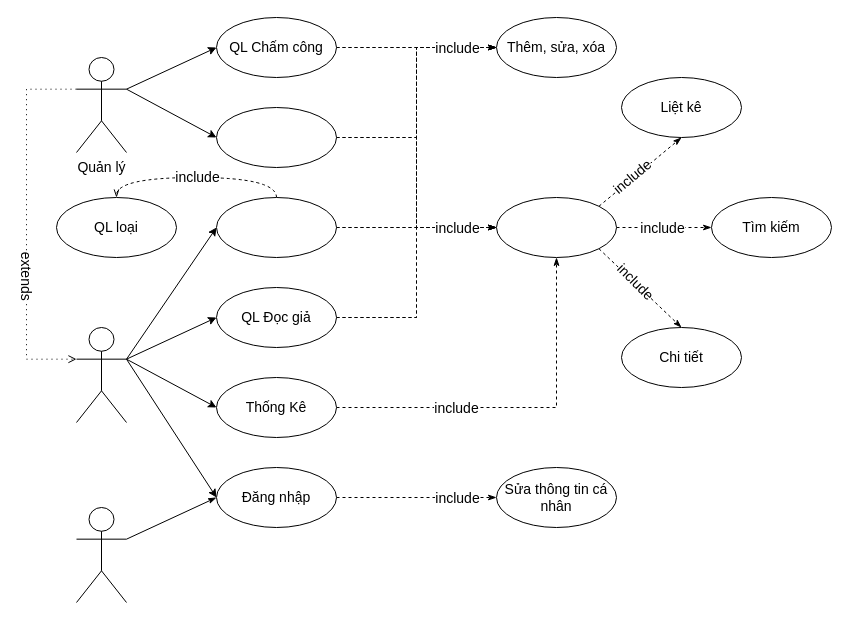
Some shapes in this 849 by 644 pixel diagram are drawn without their labels. The box of each missing label's shape, as (x1, y1, x2, y2) in pixels:
Nhân Viên: (76, 326, 126, 422)
QL kho sách: (216, 196, 336, 258)
Ql Nhân Viên: (216, 106, 336, 168)
Xem dữ liệu: (496, 196, 616, 258)
Đọc giả: (76, 506, 126, 602)
